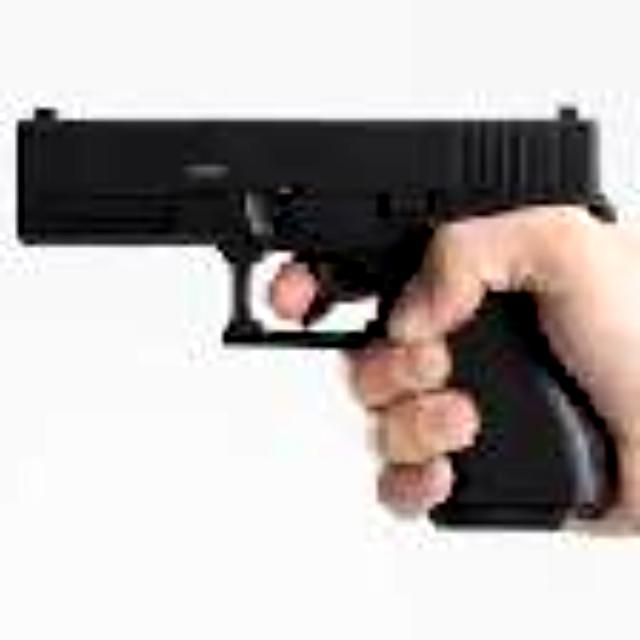pistol: (0, 103, 640, 533), (17, 114, 640, 531)
